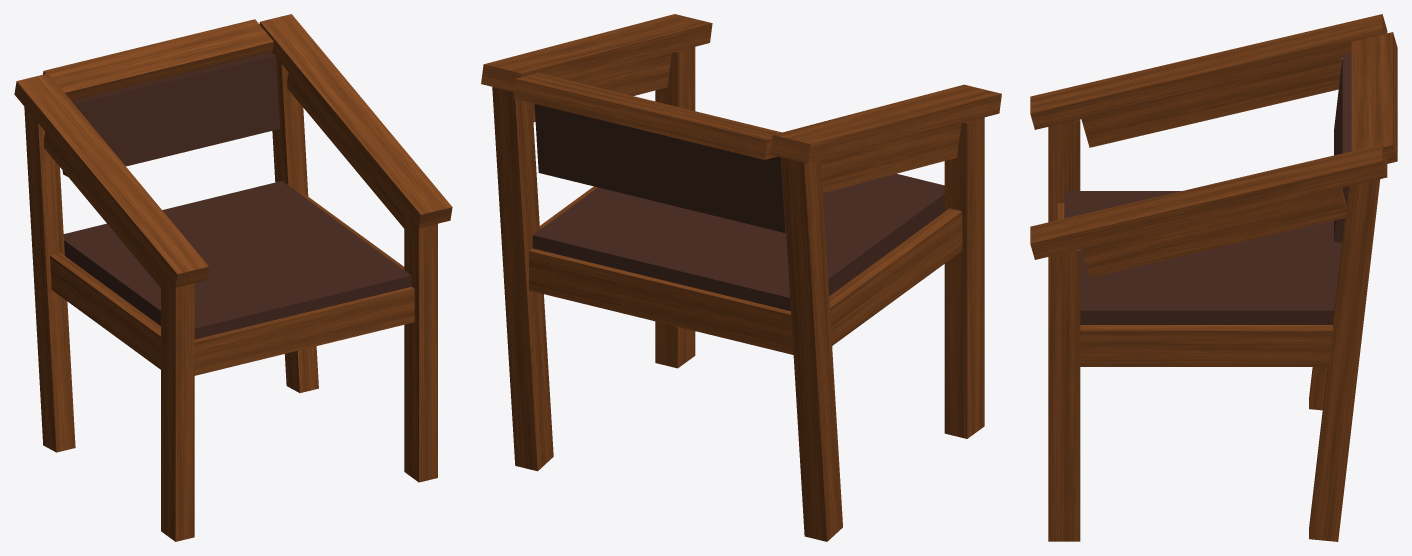
The model's file is sillon.glb.
3 views of the same model, side by side, from view 1: azimuth 30°, elevation 25°; view 2: azimuth 150°, elevation 25°; view 3: azimuth 270°, elevation 25° (orthographic). The views are drawn at different scales.
Bounding box in the file's own units: 0.65 × 0.7923 × 0.6867.
Materials: 2 (1 with a texture image).
